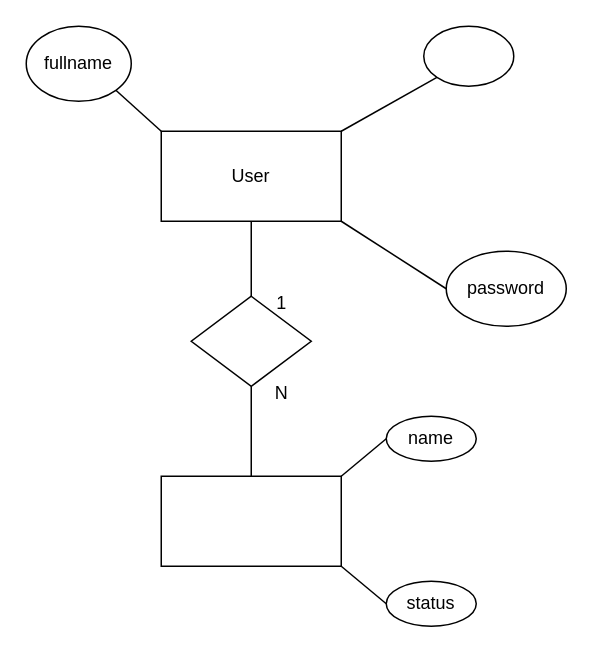
This 593x653 diagram has some shape labels left out. The box of each missing label's shape, as (x1, y1, x2, y2) in pixels:
email: (422, 25, 514, 86)
owns: (190, 295, 311, 386)
Todo: (160, 475, 341, 566)
